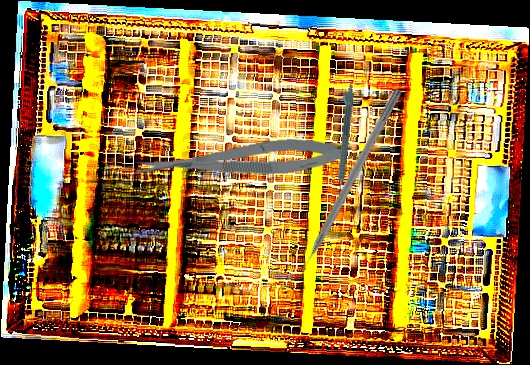Handpiece: (331, 83, 355, 197)
Micro Scissor: (132, 135, 348, 182)
Pusher: (289, 85, 404, 287)
